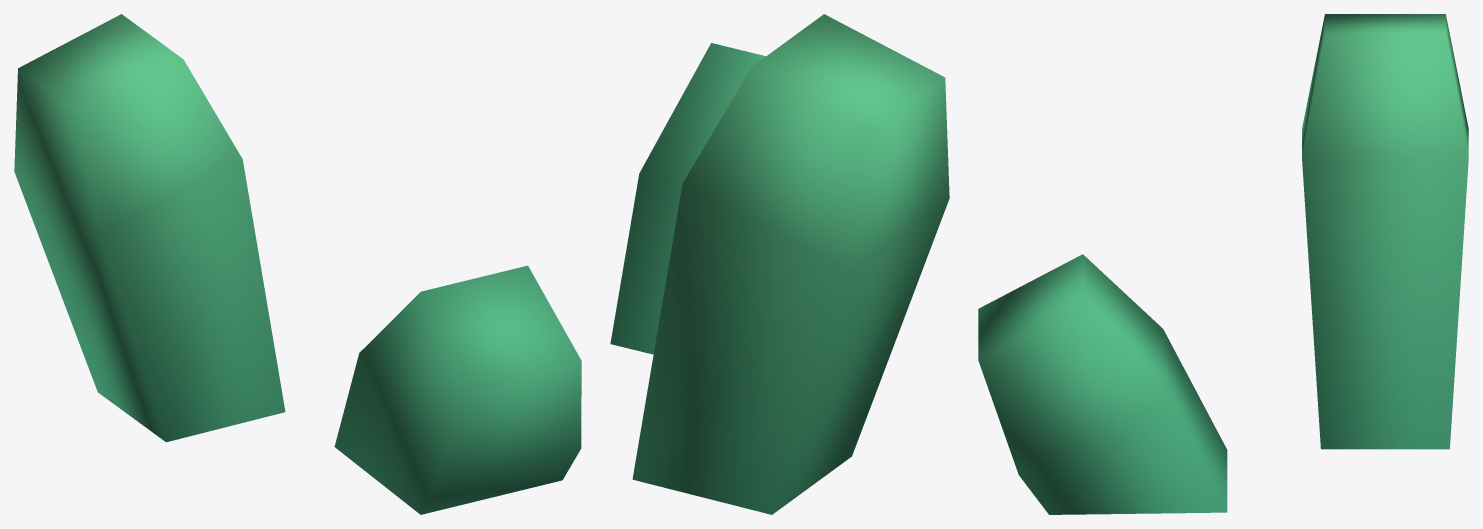
File: grass-a.glb
3 renders of one model, left to right at view 1: azimuth 30°, elevation 25°; view 2: azimuth 150°, elevation 25°; view 3: azimuth 270°, elevation 25°, orthographic. The views are drawn at different scales.
Visible parts, largest first — view 1: grass-small; view 2: grass-small; view 3: grass-small.
Part boxes in pixels (box(x1,y1,x2,y2)): grass-small: box(14, 14, 581, 514); grass-small: box(610, 14, 949, 514); grass-small: box(978, 14, 1468, 514).
Size of the model in its own units: 0.2477 by 0.2581 by 0.3129.
1 material, 1 textured.
